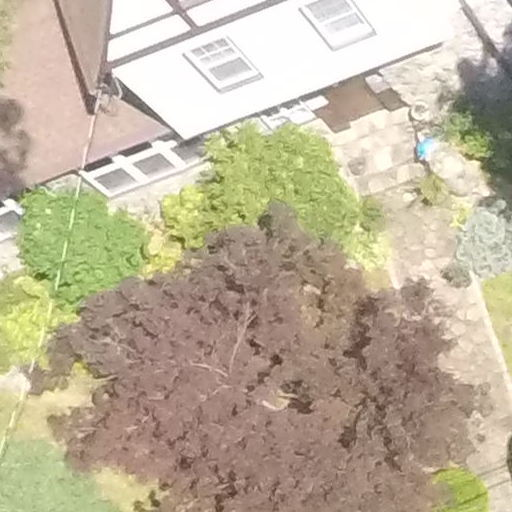container: (405, 103, 437, 128)
